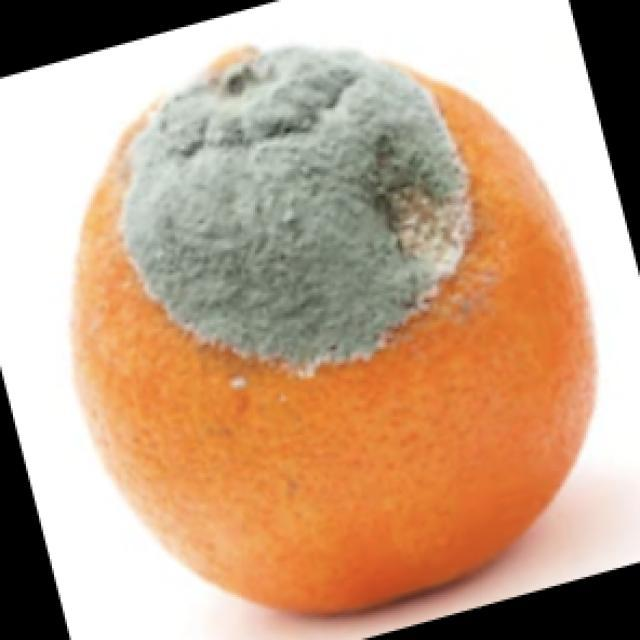sedikit-busuk: (75, 48, 594, 612), (122, 48, 471, 374)
